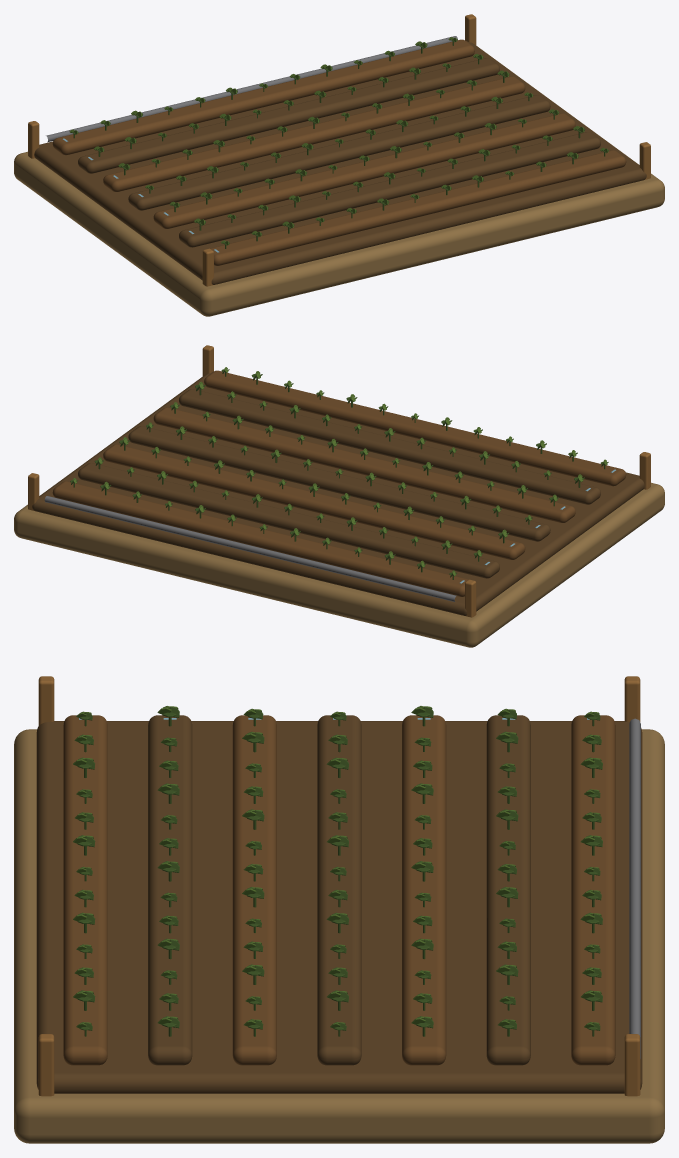
The model's file is field.glb.
The picture shows the model from 3 angles, top to bottom: view 1: azimuth 30°, elevation 25°; view 2: azimuth 150°, elevation 25°; view 3: azimuth 270°, elevation 25°; orthographic projection. The views are drawn at different scales.
Visible parts, largest first — view 1: field-farm-soil, field-farm-wood-shadow, field-farm-dirt, field-farm-leaf, field-farm-leaf-dark, field-farm-metal, field-farm-wood-dark; view 2: field-farm-soil, field-farm-wood-shadow, field-farm-dirt, field-farm-leaf-dark, field-farm-metal, field-farm-leaf, field-farm-wood-dark; view 3: field-farm-soil, field-farm-wood-shadow, field-farm-dirt, field-farm-leaf-dark, field-farm-leaf, field-farm-metal, field-farm-wood-dark.
Boxes of the visible parts, box(x1,y1,x2,y2) form: field-farm-soil: box(34, 41, 646, 284); field-farm-wood-shadow: box(52, 39, 626, 265); field-farm-dirt: box(14, 46, 664, 316); field-farm-leaf: box(69, 37, 608, 245); field-farm-leaf-dark: box(71, 38, 608, 248); field-farm-metal: box(46, 36, 457, 141); field-farm-wood-dark: box(28, 14, 650, 286); field-farm-soil: box(32, 372, 644, 615); field-farm-wood-shadow: box(52, 370, 626, 596); field-farm-dirt: box(14, 377, 664, 647); field-farm-leaf-dark: box(70, 369, 608, 579); field-farm-metal: box(44, 496, 456, 601); field-farm-leaf: box(73, 367, 607, 576); field-farm-wood-dark: box(28, 345, 650, 617); field-farm-soil: box(36, 715, 642, 1093); field-farm-wood-shadow: box(63, 715, 615, 1065); field-farm-dirt: box(14, 729, 664, 1143); field-farm-leaf-dark: box(77, 706, 602, 1036); field-farm-leaf: box(73, 706, 601, 1028); field-farm-metal: box(629, 718, 640, 1058); field-farm-wood-dark: box(38, 676, 640, 1096).
Bounding box in the file's own units: 6.9 × 0.86 × 5.
